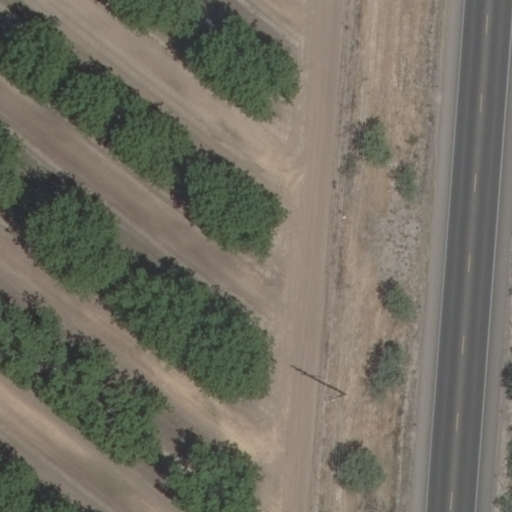DT: (338, 385, 354, 402)
